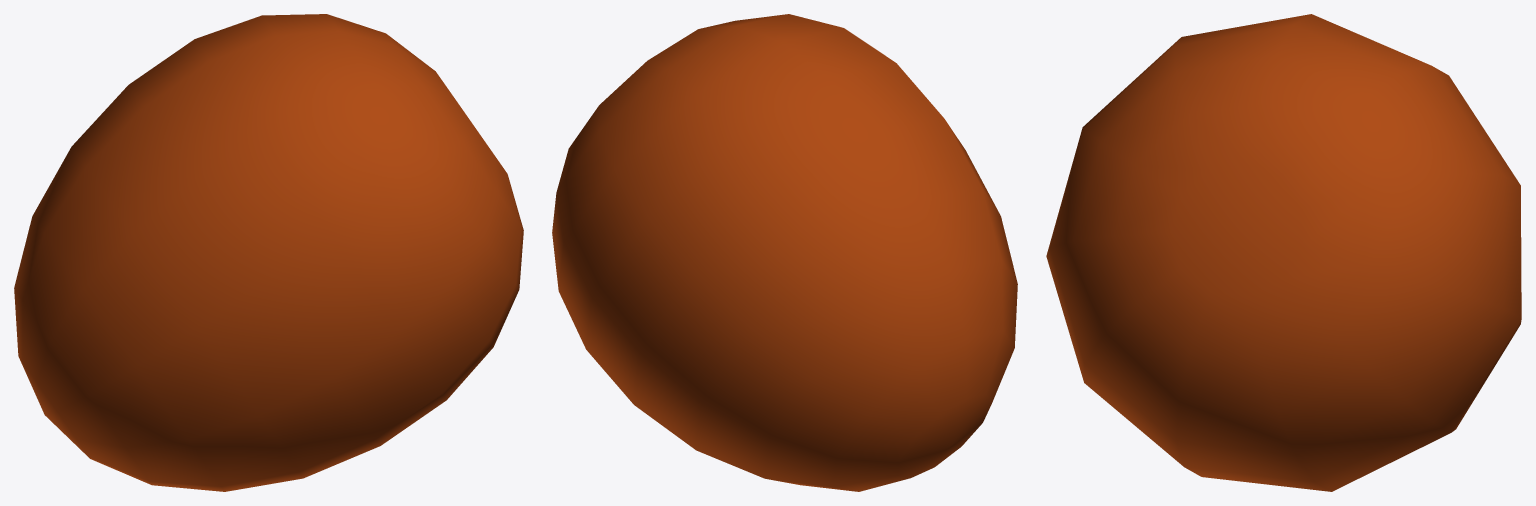
Rendered from ShipovnikBerryItem.fbx.
3 views of the same model, side by side, from view 1: azimuth 30°, elevation 25°; view 2: azimuth 150°, elevation 25°; view 3: azimuth 270°, elevation 25° (orthographic). The views are drawn at different scales.
Visible parts, largest first — view 1: Sphere.001; view 2: Sphere.001; view 3: Sphere.001.
Part boxes in pixels (x1,y1,x2,y2): Sphere.001: (14, 14, 523, 491); Sphere.001: (552, 14, 1017, 491); Sphere.001: (1046, 14, 1521, 491).
Bounding box in the file's own units: 25.44 × 23.55 × 22.22.
